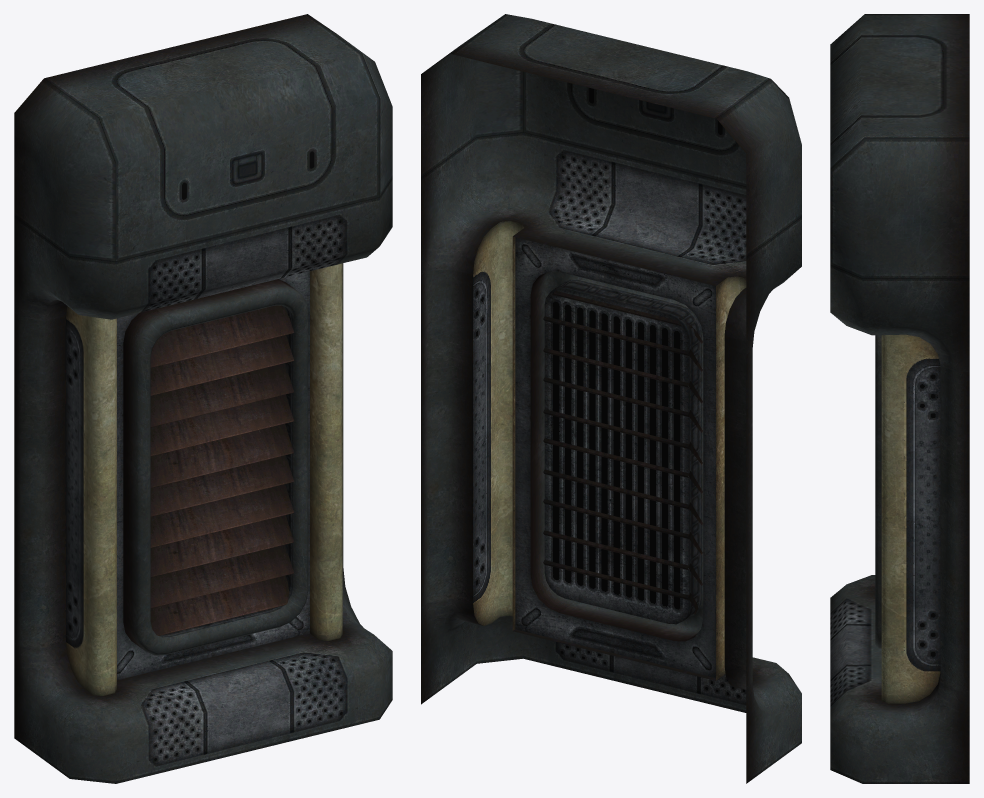
Rendered from living_area_ventilation_shutter_addon.dae.
3 renders of one model, left to right at view 1: azimuth 30°, elevation 25°; view 2: azimuth 150°, elevation 25°; view 3: azimuth 270°, elevation 25°, orthographic. The views are drawn at different scales.
Parts seen in each view (by area): view 1: polySurface36, polySurface31; view 2: polySurface36, polySurface31; view 3: polySurface36, polySurface31.
Part boxes in pixels (x1,y1,x2,y2): polySurface36: [14, 14, 392, 783]; polySurface31: [117, 271, 309, 680]; polySurface36: [421, 14, 801, 783]; polySurface31: [515, 237, 715, 678]; polySurface36: [830, 14, 969, 783]; polySurface31: [875, 335, 881, 648].
Bounding box in the file's own units: 2.59 × 5 × 1.
Materials: 1 (1 with a texture image).
